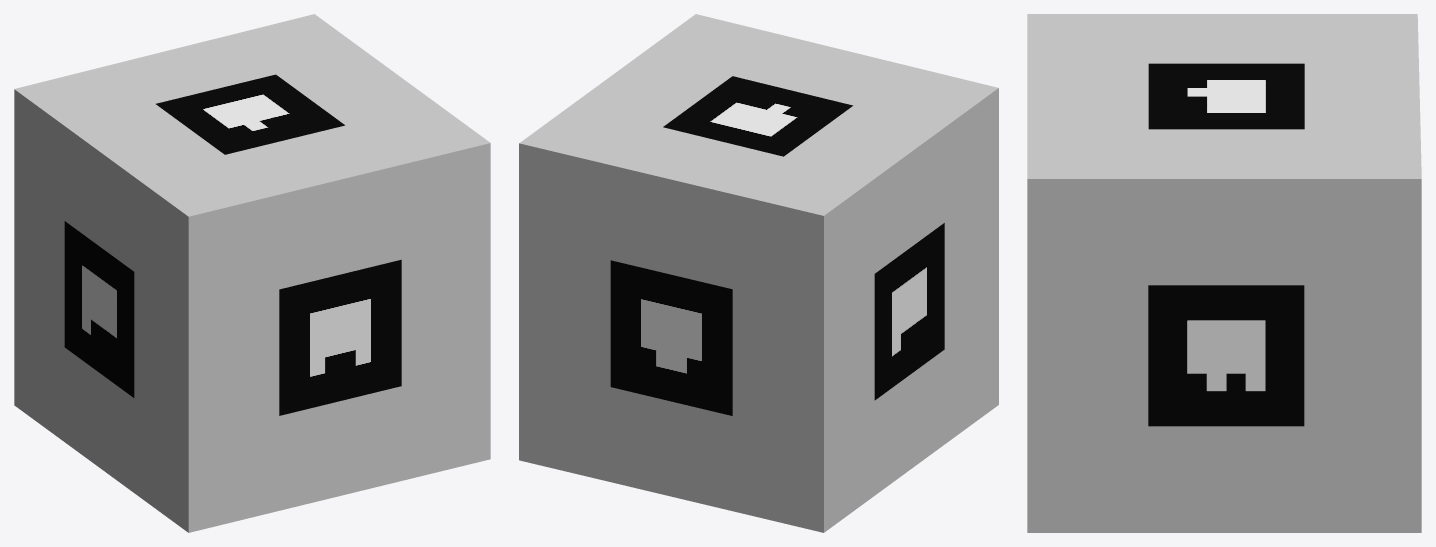
The model's file is target2.dae.
The picture shows the model from 3 angles, left to right: view 1: azimuth 30°, elevation 25°; view 2: azimuth 150°, elevation 25°; view 3: azimuth 270°, elevation 25°; orthographic projection. The views are drawn at different scales.
Parts seen in each view (by area): view 1: group_0 (×4); view 2: group_0 (×4); view 3: group_0 (×3).
Part boxes in pixels (x1,y1,x2,y2): group_0 (×4): (14, 14, 490, 532); group_0 (×4): (519, 14, 998, 532); group_0 (×3): (1027, 14, 1421, 532).
Size of the model in its own units: 39.37 by 39.78 by 39.37.
Materials: 6 (5 with a texture image).
